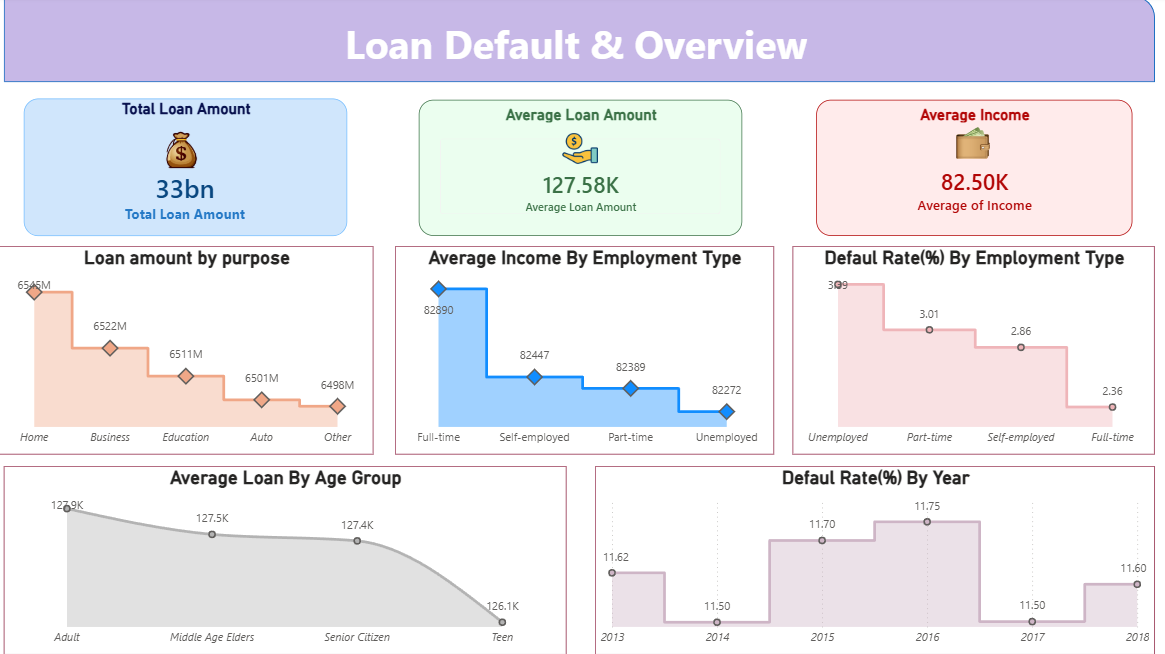

The page's visual inventory and layout, read from the dashboard file:
{"tool":"powerbi","page":{"name":"Loan Default & Overview","canvas":[1280,720],"ordinal":0},"visuals":[{"type":"shape","box":[9.6,0,1258.4,94.3],"z":0},{"type":"lineChart","title":"Loan amount by purpose","fields":{"Category":["Loan_default.LoanPurpose"],"Y":["Meausre table1.Loan amount by purpose"]},"box":[4.1,273.3,409.9,228.2],"z":1000},{"type":"lineChart","title":"Average Income By Employment Type","fields":{"Y":["Meausre table1.Average income by Employment type"],"Category":["Loan_default.EmploymentType"]},"box":[437.2,273.3,414,228.2],"z":2000},{"type":"actionButton","box":[0,0,100,40],"z":3000},{"type":"lineChart","title":"Defaul Rate(%) By Employment Type","fields":{"Y":["Meausre table1.Default Rate By Employment"],"Category":["Loan_default.EmploymentType"]},"box":[871.7,273.3,396.2,228.2],"z":4000},{"type":"lineChart","title":"Average Loan By Age Group","fields":{"Category":["Loan_default.Age Group"],"Y":["Meausre table1.Average loan by age group"]},"box":[9.6,513.8,614.9,206.3],"z":5000},{"type":"lineChart","title":"Defaul Rate(%) By Year","fields":{"Y":["Meausre table1.Default Rate By Year"],"Category":["Loan_default.year"]},"box":[655.9,513.8,612.1,206.3],"z":6000},{"type":"cardVisual","title":"Total Loan Amount","fields":{"Data":["Sum(Loan_default.LoanAmount)"]},"box":[31.4,112,353.9,150.3],"z":6001,"group":"g1"},{"type":"image","box":[154.2,144,99.2,49.6],"z":6002,"group":"g1"},{"type":"group","id":"g1","title":"Group 1","box":[31.4,112,353.9,150.3],"z":6003},{"type":"cardVisual","title":"Average Loan Amount","fields":{"Data":["Avg(Loan_default.LoanAmount)"]},"box":[463.2,113.4,353.9,148.9],"z":6004},{"type":"cardVisual","title":"Average Income","fields":{"Data":["Avg(Loan_default.Income)"]},"box":[897.7,113.4,345.7,148.9],"z":6006},{"type":"image","box":[575.2,140.7,128.4,51.9],"z":6007},{"type":"image","box":[1037.1,143.5,64.2,34.2],"z":6008}]}

Visuals, with their boxes in screenshot pixels (x1, y1, x2, y2), scaled from the page's 1280x720 canvas onto the 1165x654 screenshot:
shape: (9,0,1154,86)
"Loan amount by purpose" lineChart: (4,248,377,456)
"Average Income By Employment Type" lineChart: (398,248,775,456)
actionButton: (0,0,91,36)
"Defaul Rate(%) By Employment Type" lineChart: (793,248,1154,456)
"Average Loan By Age Group" lineChart: (9,467,568,653)
"Defaul Rate(%) By Year" lineChart: (597,467,1154,653)
"Total Loan Amount" cardVisual: (29,102,351,238)
image: (140,131,231,176)
"Group 1" group: (29,102,351,238)
"Average Loan Amount" cardVisual: (422,103,744,238)
"Average Income" cardVisual: (817,103,1132,238)
image: (524,128,640,175)
image: (944,130,1002,161)
